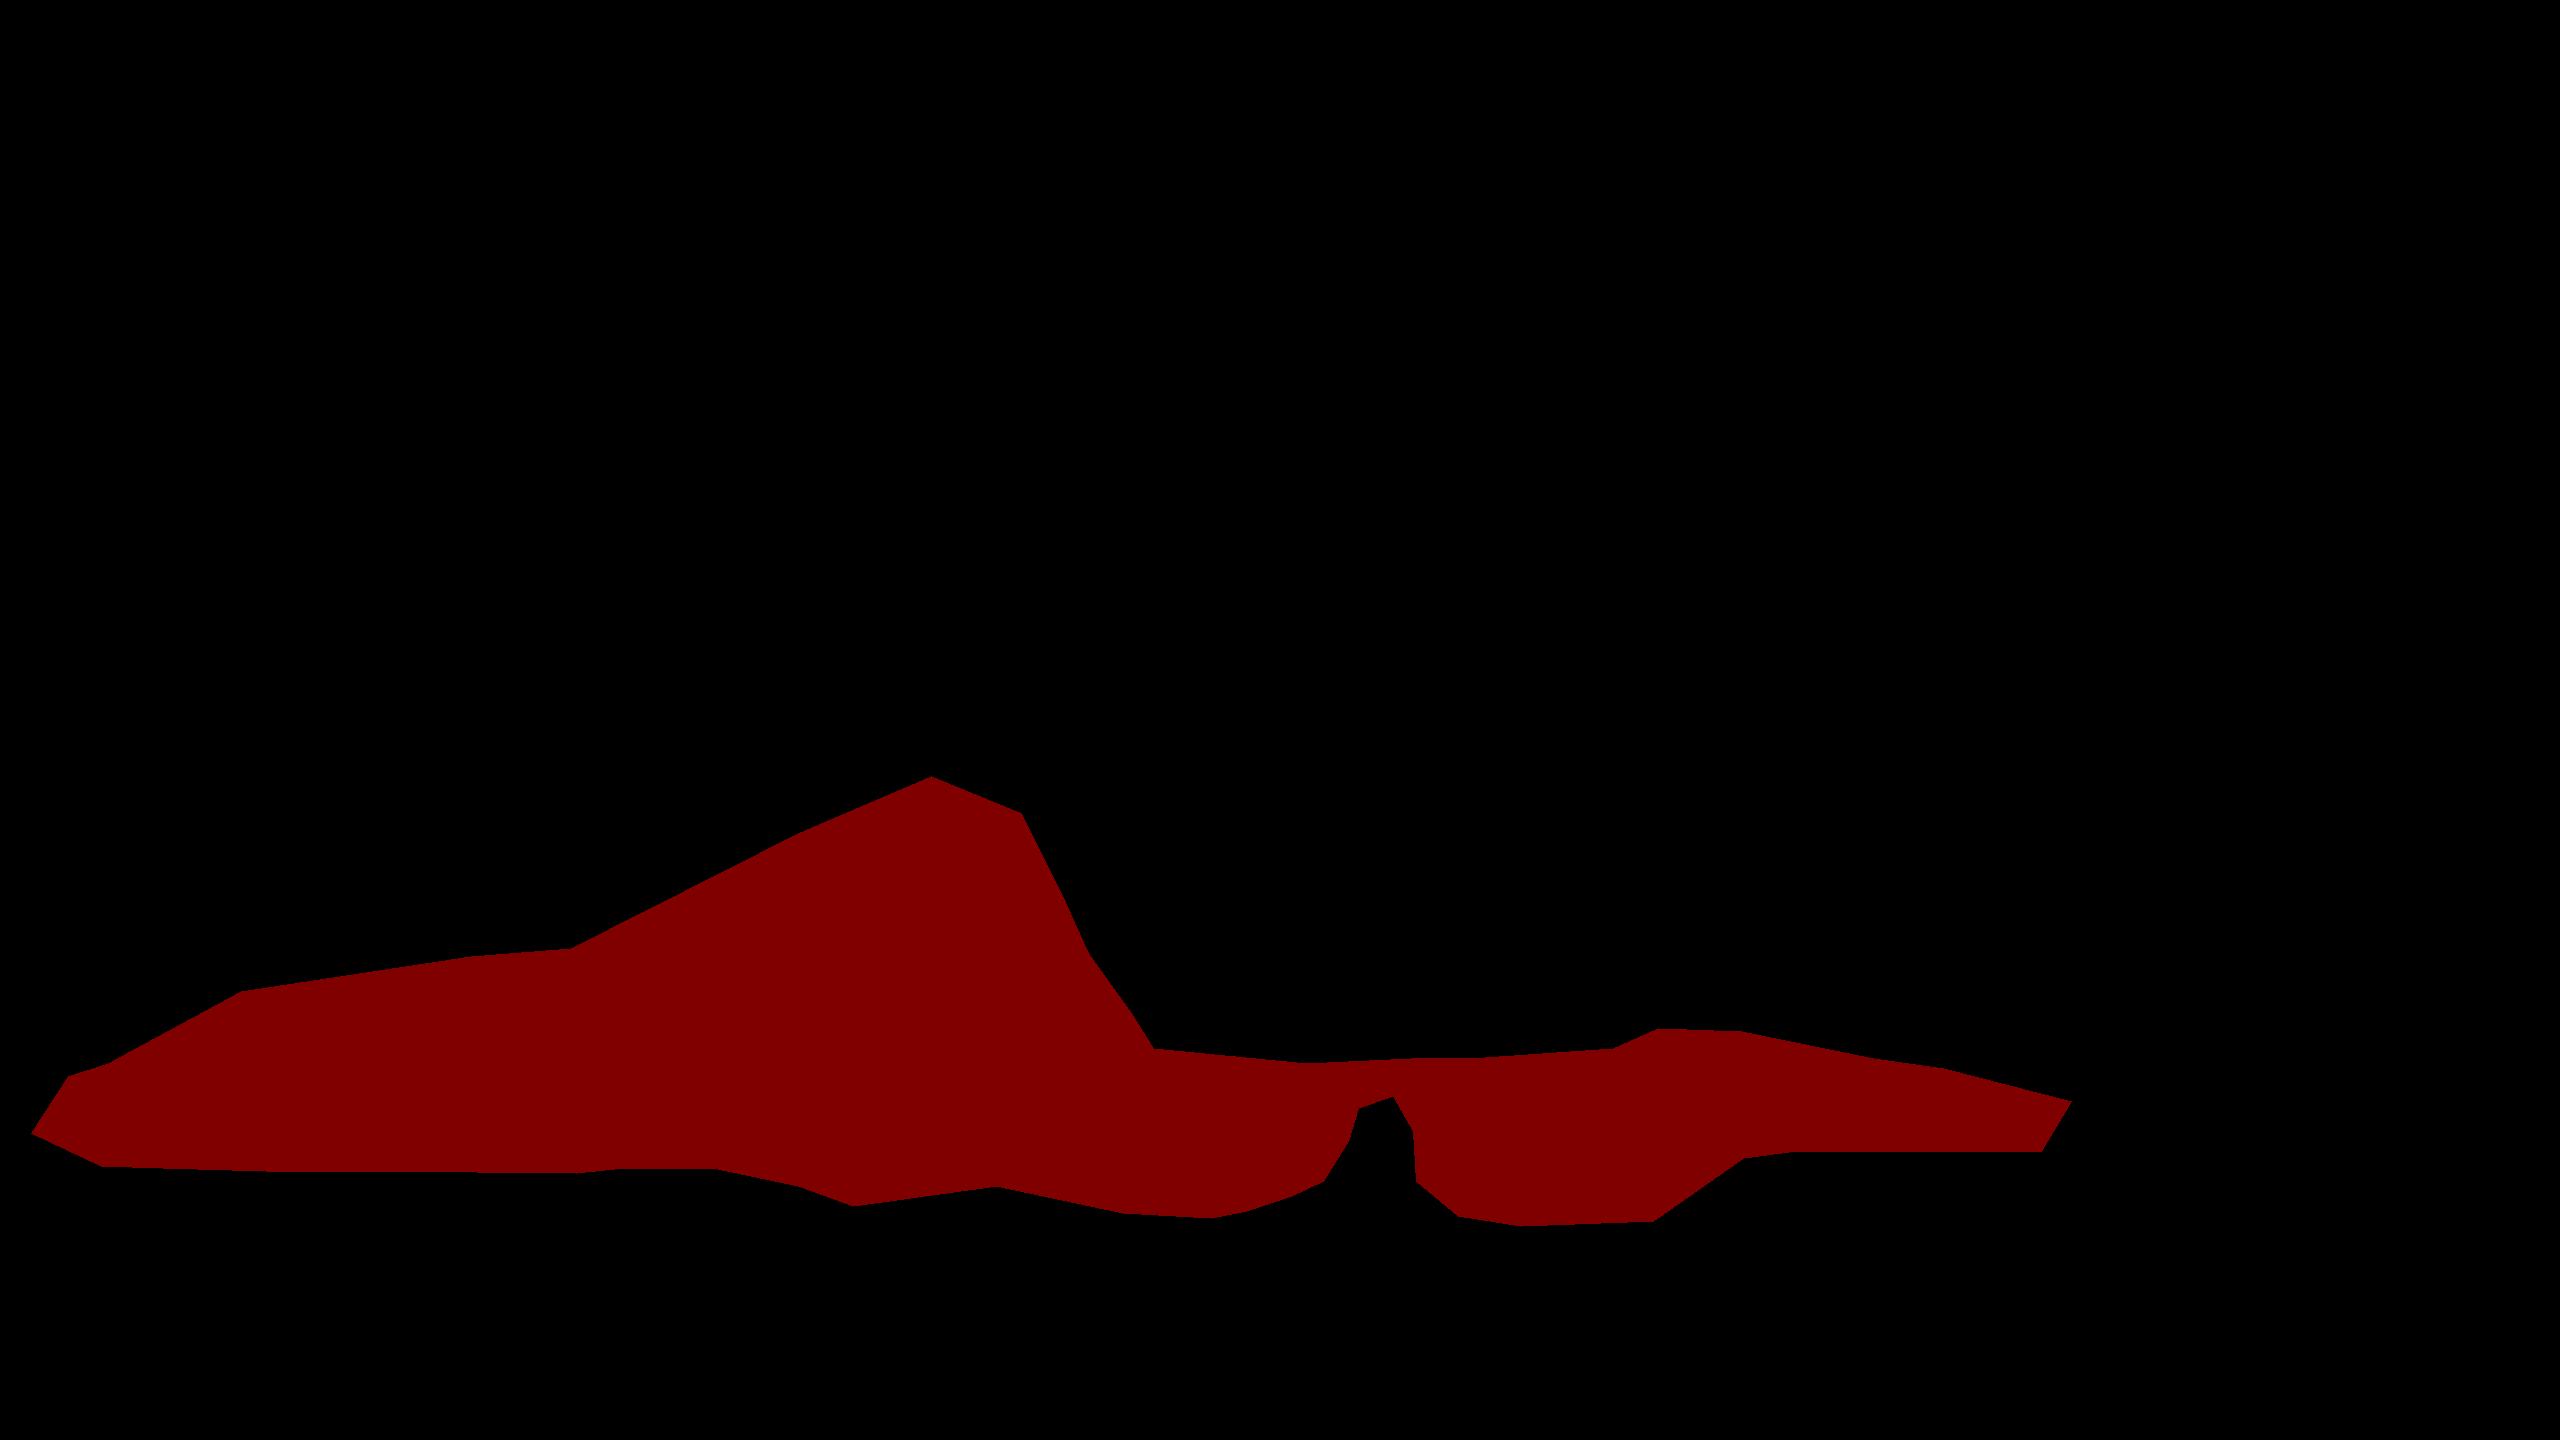fire: (32, 775, 2071, 1225)
